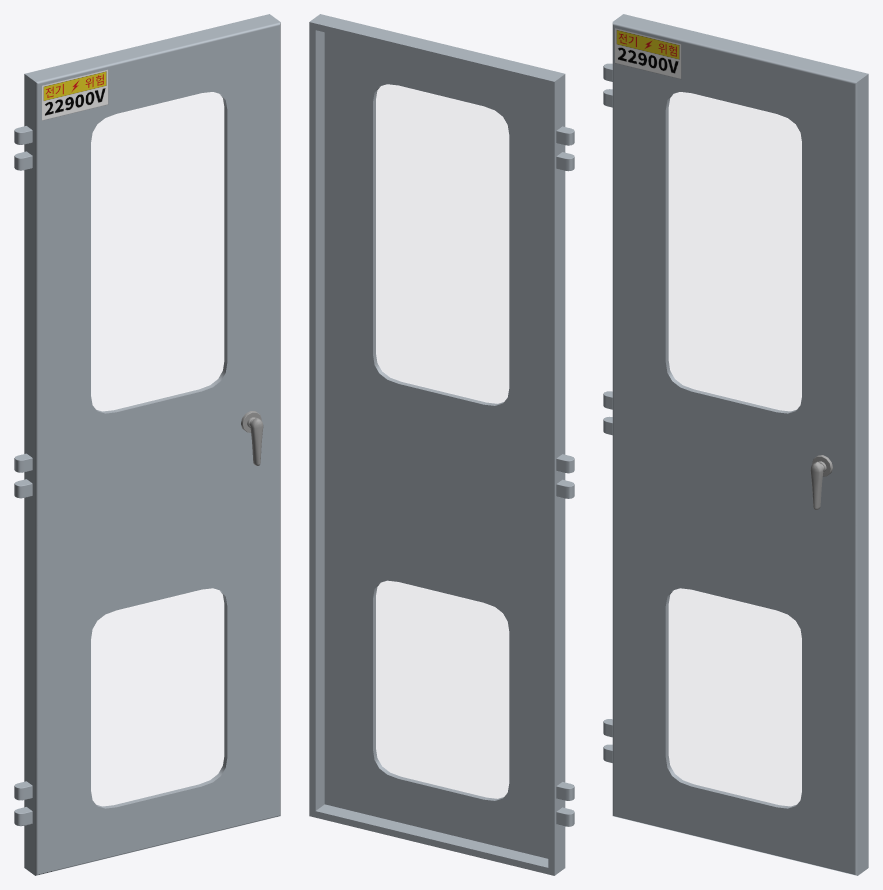
Rendered from MOF_FRONT_DOOR.fbx.
3 renders of one model, left to right at view 1: azimuth 30°, elevation 25°; view 2: azimuth 150°, elevation 25°; view 3: azimuth 330°, elevation 25°, orthographic.
Parts seen in each view (by area): view 1: polySurface64; view 2: polySurface64; view 3: polySurface64.
Boxes of the visible parts, x1,y1,x2,y2 form: polySurface64: (14, 14, 280, 875); polySurface64: (309, 14, 574, 875); polySurface64: (603, 14, 868, 875).
Size of the model in its own units: 0.6334 by 1.85 by 0.0934.
Materials: 3 (2 with a texture image).
